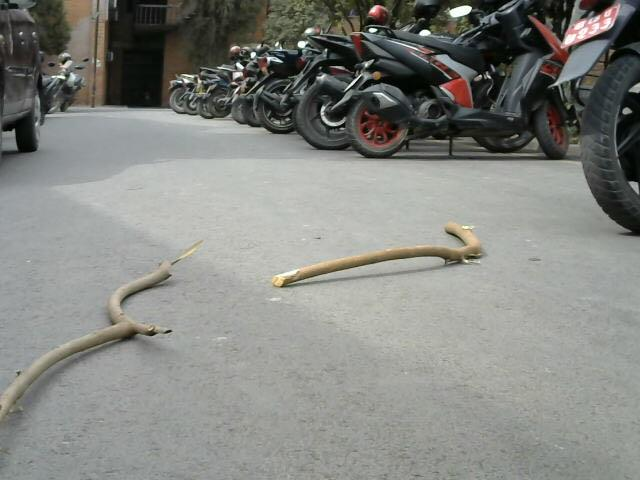Car: (0, 0, 54, 161)
Motorcycle: (157, 16, 636, 191), (49, 45, 93, 121)
Tree: (256, 216, 566, 288)
